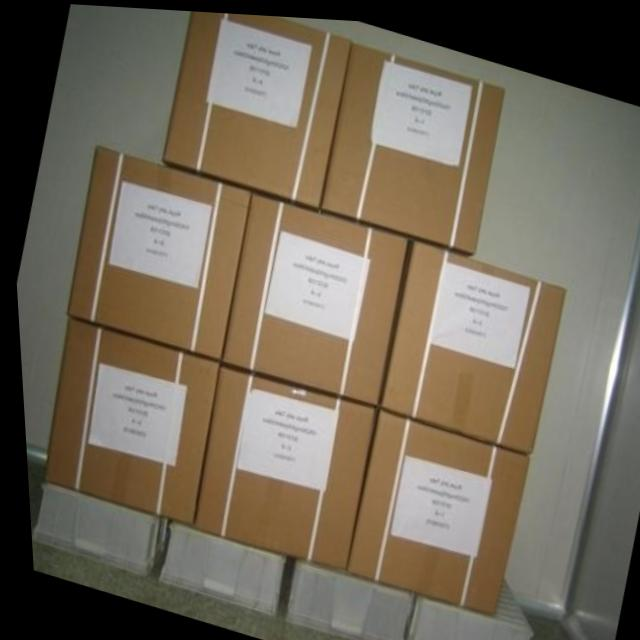box: (217, 192, 405, 402), (376, 235, 562, 447), (318, 39, 502, 251), (63, 146, 246, 359), (340, 406, 526, 613), (159, 9, 352, 207), (187, 364, 371, 566), (38, 319, 215, 525), (25, 481, 162, 577), (151, 522, 278, 611), (276, 555, 406, 640), (399, 572, 524, 640)
